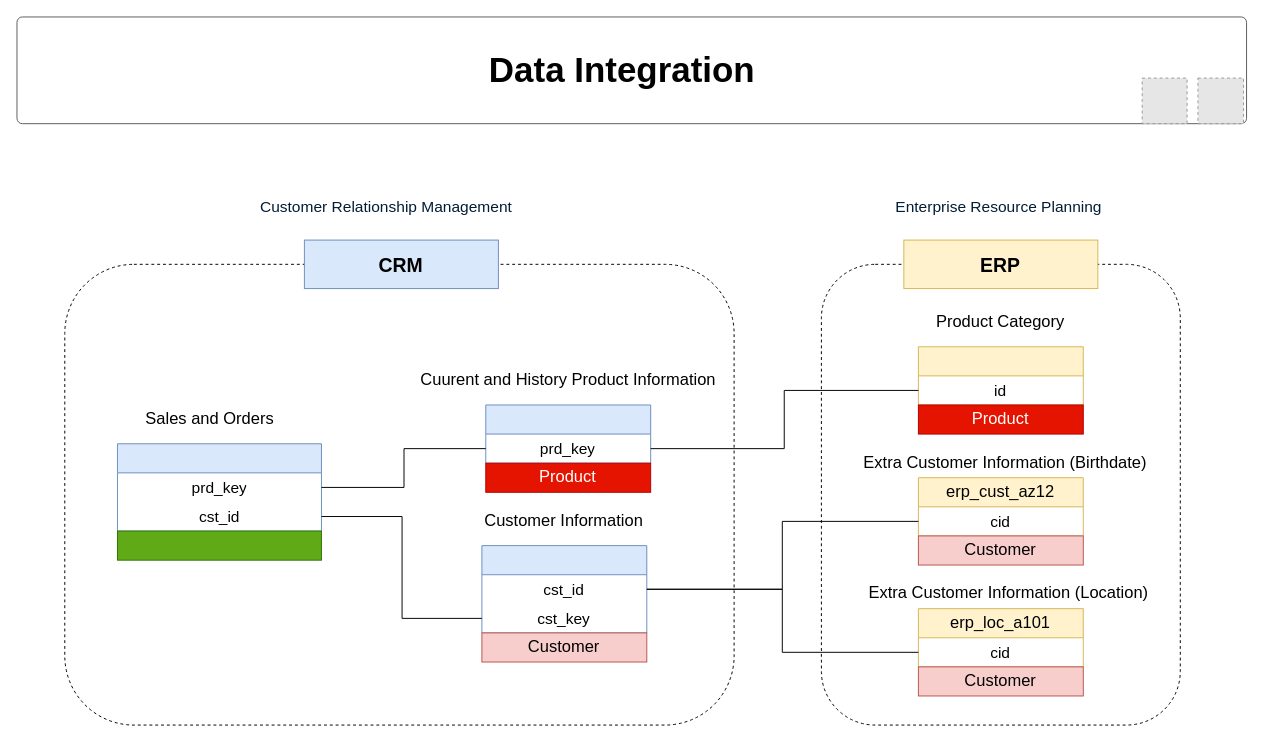
The diagram is 1264 pixels wide and 742 high, and some of its shapes have lost their labels. Grey dashed boxes stand in for pictures. Here are the shapes that lost their labels. From the top down, the box of each, then its label:
(917, 346, 1083, 405): erp_px_cat_g1v2
(485, 404, 651, 463): crm_prd_info
(116, 443, 321, 531): crm_sales_details
(116, 530, 321, 560): Sales
(481, 545, 647, 633): crm_cust_info
